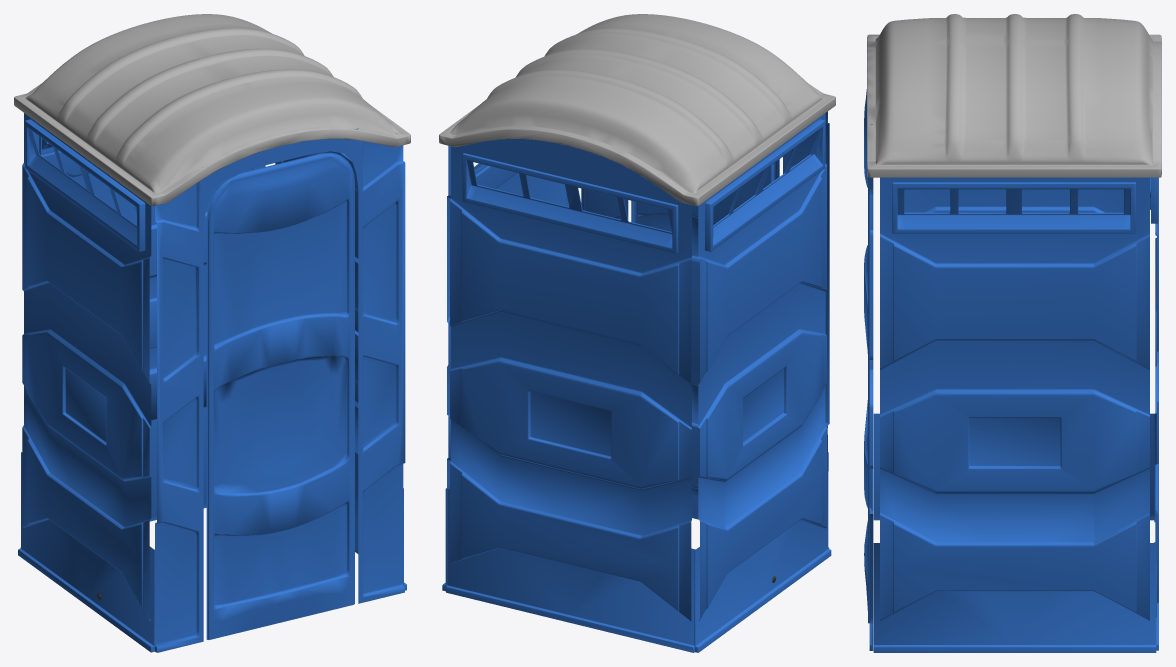
The model's file is portableToiletLOD4.fbx.
3 views of the same model, side by side, from view 1: azimuth 30°, elevation 25°; view 2: azimuth 150°, elevation 25°; view 3: azimuth 270°, elevation 25° (orthographic). The views are drawn at different scales.
Visible parts, largest first — view 1: Plane010.004, Plane004.004, Plane003.004, Plane001.004, Plane005.004, Box004.004, Plane056.004, Plane011.004, Plane055.004; view 2: Plane056.004, Plane003.004, Plane001.004, Plane055.004, Plane005.004, Box016.004, Box004.004, Plane010.004, Plane011.004, Plane004.004; view 3: Plane011.004, Plane001.004, Plane016.004, Box005.004, Plane003.004, Plane010.004, Plane004.004, Plane056.004, Plane005.004.
Part boxes in pixels (x1=…): Plane010.004: x1=206, y1=152, x2=354, y2=639; Plane004.004: x1=155, y1=128, x2=405, y2=652; Plane003.004: x1=22, y1=113, x2=151, y2=620; Plane001.004: x1=14, y1=14, x2=410, y2=205; Plane005.004: x1=18, y1=452, x2=154, y2=652; Box004.004: x1=24, y1=119, x2=145, y2=251; Plane056.004: x1=32, y1=131, x2=265, y2=420; Plane011.004: x1=275, y1=151, x2=358, y2=454; Plane055.004: x1=20, y1=407, x2=206, y2=548; Plane056.004: x1=450, y1=139, x2=691, y2=621; Plane003.004: x1=698, y1=113, x2=826, y2=620; Plane001.004: x1=439, y1=14, x2=835, y2=205; Plane055.004: x1=446, y1=489, x2=695, y2=652; Plane005.004: x1=694, y1=452, x2=831, y2=652; Box016.004: x1=462, y1=153, x2=678, y2=253; Box004.004: x1=705, y1=119, x2=825, y2=251; Plane010.004: x1=631, y1=159, x2=779, y2=519; Plane011.004: x1=447, y1=146, x2=569, y2=487; Plane004.004: x1=581, y1=111, x2=829, y2=548; Plane011.004: x1=880, y1=177, x2=1149, y2=620; Plane001.004: x1=867, y1=14, x2=1161, y2=177; Plane016.004: x1=873, y1=543, x2=1156, y2=652; Box005.004: x1=892, y1=182, x2=1135, y2=233; Plane003.004: x1=904, y1=189, x2=1123, y2=212; Plane010.004: x1=864, y1=89, x2=871, y2=623; Plane004.004: x1=869, y1=124, x2=873, y2=650; Plane056.004: x1=1155, y1=177, x2=1158, y2=617; Plane005.004: x1=873, y1=413, x2=1154, y2=520.
Size of the model in its own units: 130 by 247 by 122.
